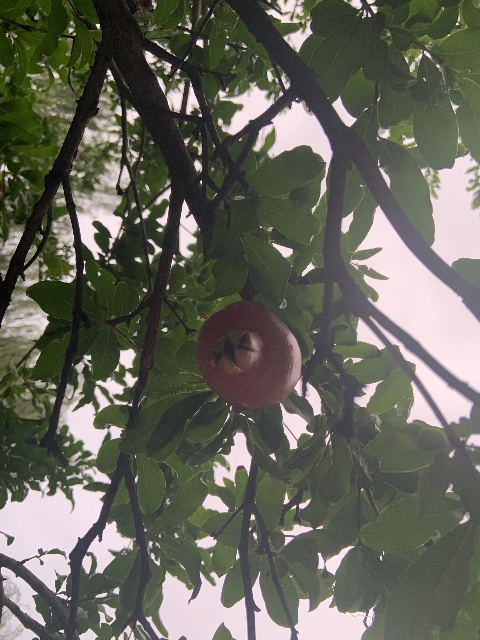ripe: (196, 300, 302, 410)
